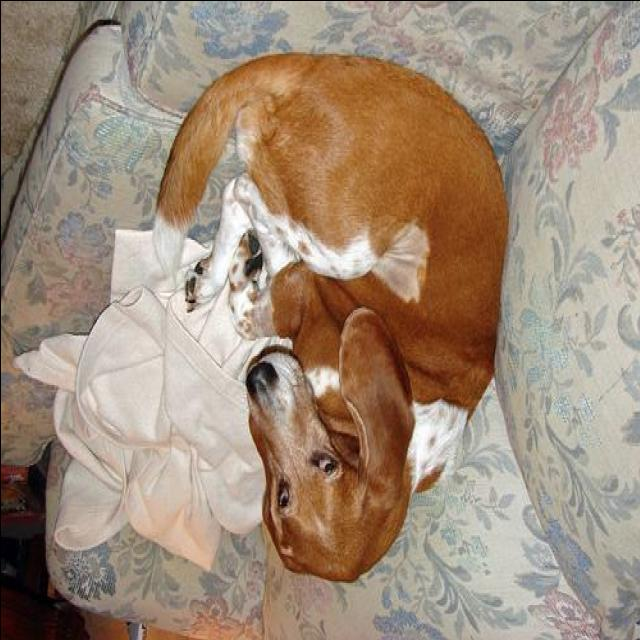basset: (151, 51, 508, 584)
